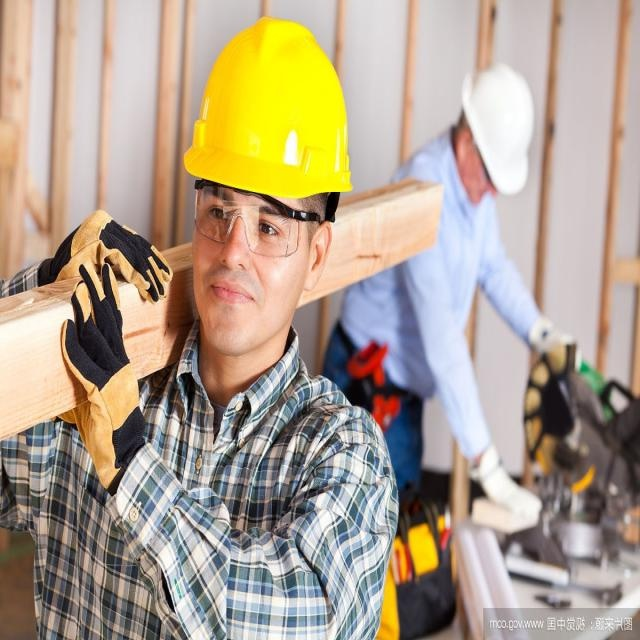Con_Casco: (185, 16, 349, 352)
